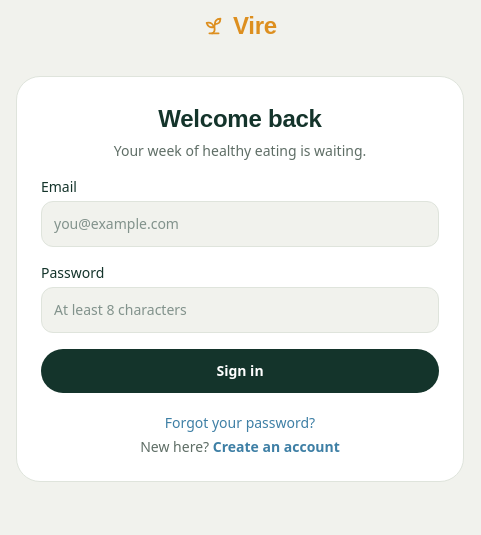
Test: sign in › rejects an obvious typo before making a request
The width and height of the screenshot is (481, 535).
In the field labelled "Email": (240, 224) 41,201 -> 439,247, type "not-an-email"
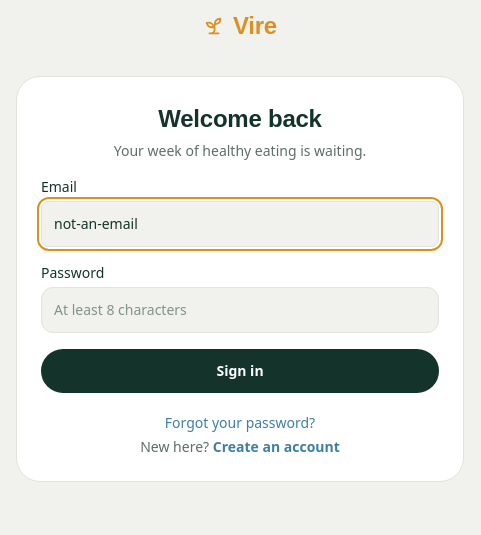
In the password field labelled "Password": (240, 310) 41,287 -> 439,333, type "correct horse"
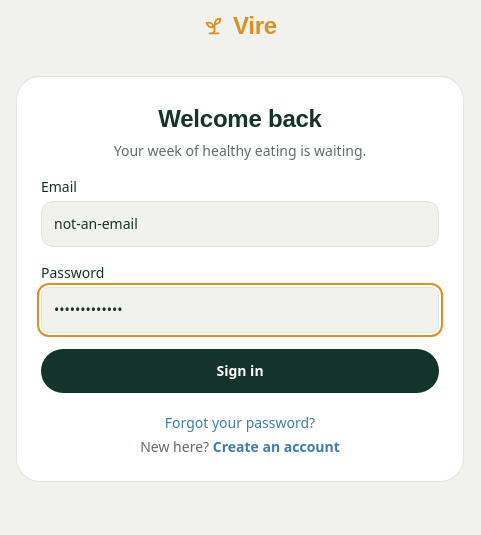
Click the button "Sign in": (240, 371) 41,349 -> 439,393
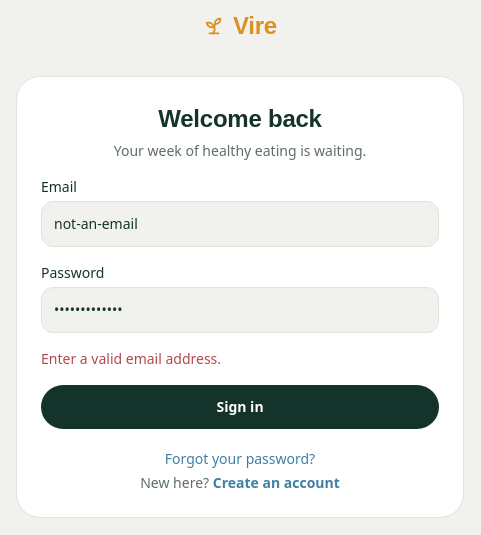
Result: the message reads "Enter a valid email address." at 41,349 -> 221,368
